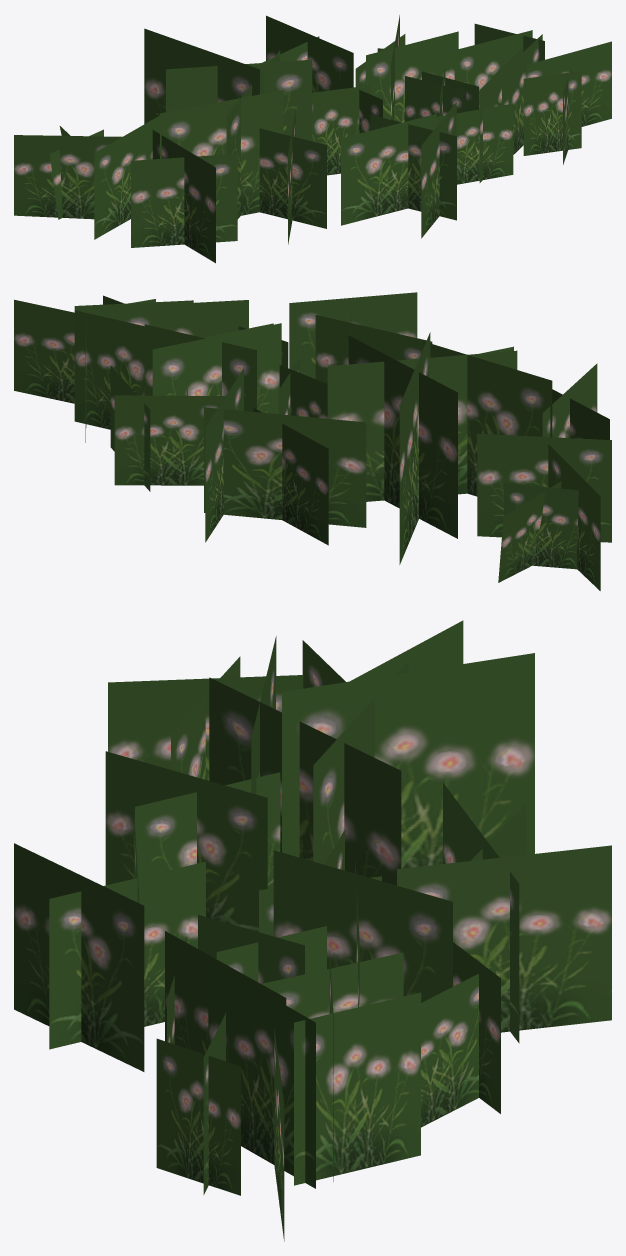
The model's file is wm_灌木野花09.fbx.
3 renders of one model, top to bottom at view 1: azimuth 30°, elevation 25°; view 2: azimuth 150°, elevation 25°; view 3: azimuth 270°, elevation 25°, orthographic. The views are drawn at different scales.
Parts seen in each view (by area): view 1: wm_灌木野花09; view 2: wm_灌木野花09; view 3: wm_灌木野花09.
Part boxes in pixels (bbox=[...]): wm_灌木野花09: bbox=[14, 15, 611, 263]; wm_灌木野花09: bbox=[14, 292, 611, 590]; wm_灌木野花09: bbox=[14, 620, 611, 1241].
Size of the model in its own units: 508 by 120 by 269.
